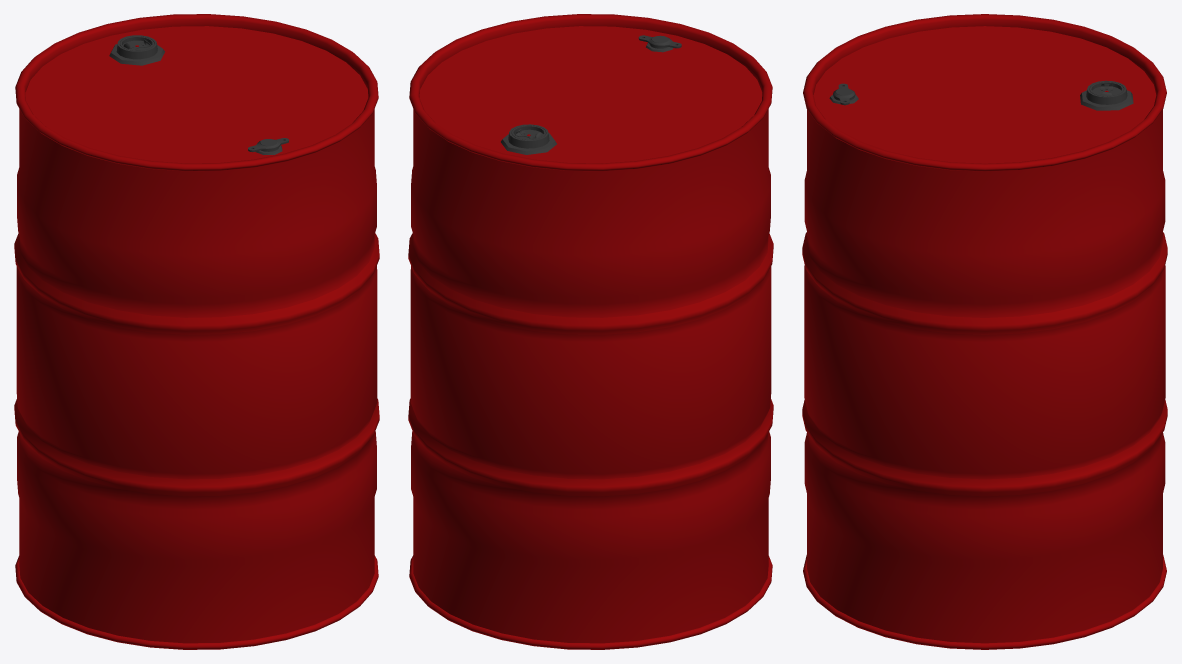
Rendered from barrel 1.fbx.
The picture shows the model from 3 angles, left to right: view 1: azimuth 30°, elevation 25°; view 2: azimuth 150°, elevation 25°; view 3: azimuth 270°, elevation 25°; orthographic projection.
Visible parts, largest first — view 1: barrel; view 2: barrel; view 3: barrel.
Boxes of the visible parts, x1,y1,x2,y2 form: barrel: (14,14,379,649); barrel: (408,14,773,649); barrel: (802,14,1167,649).
Size of the model in its own units: 105 by 153 by 105.
1 material, 1 textured.
